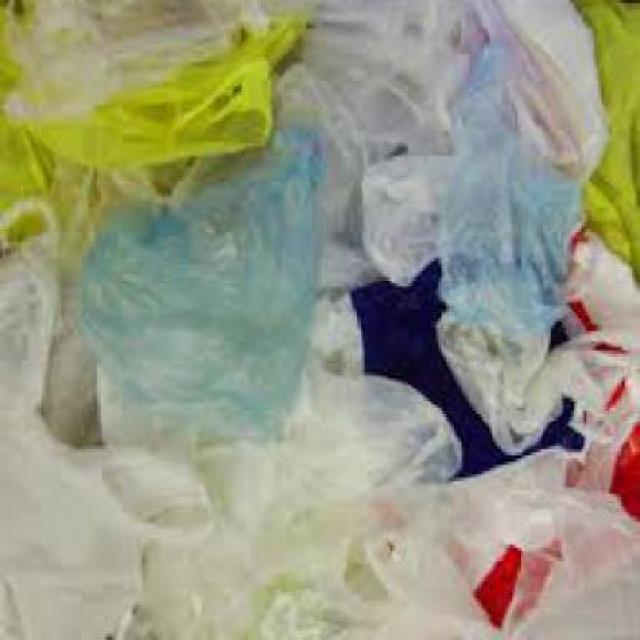plastic: (0, 1, 638, 640), (0, 210, 214, 638), (121, 304, 362, 638), (80, 137, 320, 449), (342, 255, 584, 491), (0, 32, 303, 205), (362, 452, 638, 638), (257, 57, 454, 303), (0, 3, 340, 128), (496, 3, 638, 292), (274, 294, 460, 500), (437, 316, 638, 462), (0, 128, 209, 264), (472, 3, 605, 188), (564, 240, 638, 523), (577, 3, 638, 292), (263, 3, 485, 80), (38, 286, 97, 449), (251, 268, 343, 357)
